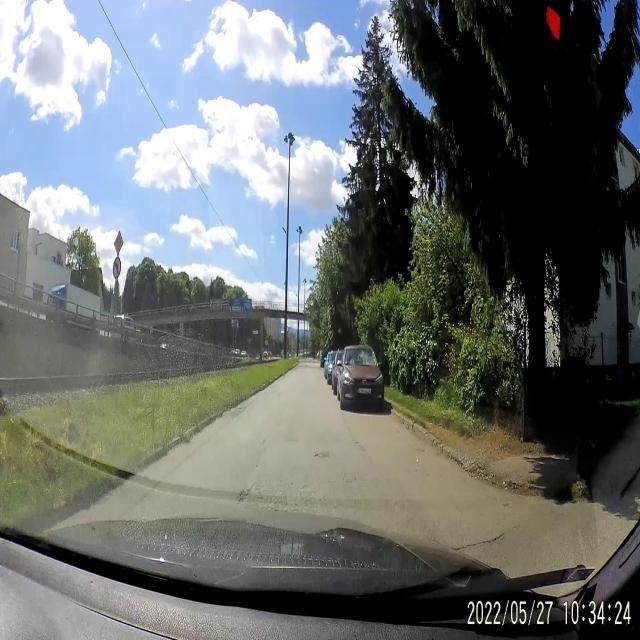Pothole: (233, 486, 287, 514), (452, 531, 508, 551), (314, 448, 334, 462)
